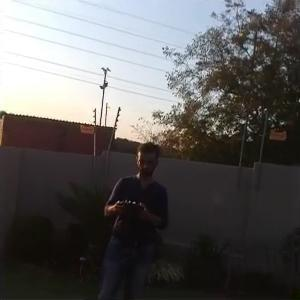follow: (96, 135, 176, 298)
